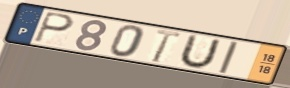0: (108, 24, 146, 58)
8: (74, 18, 109, 52)
I: (217, 40, 241, 75)
P: (32, 10, 75, 44)
T: (150, 28, 183, 64)
U: (176, 33, 224, 70)
